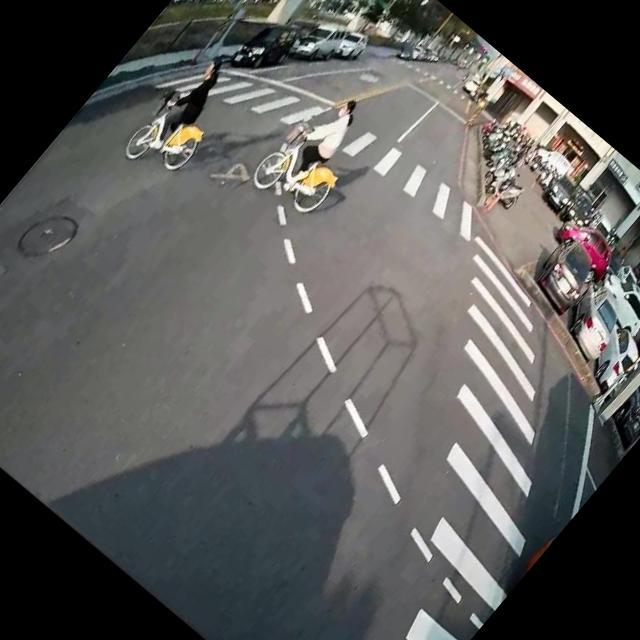person: (134, 46, 240, 162), (266, 83, 370, 197)
